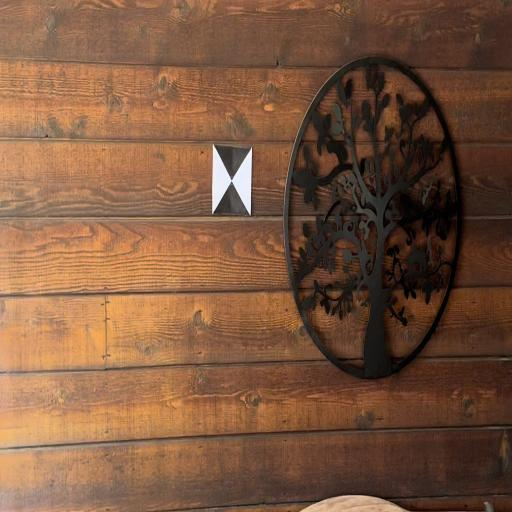target: (213, 145, 251, 215)
